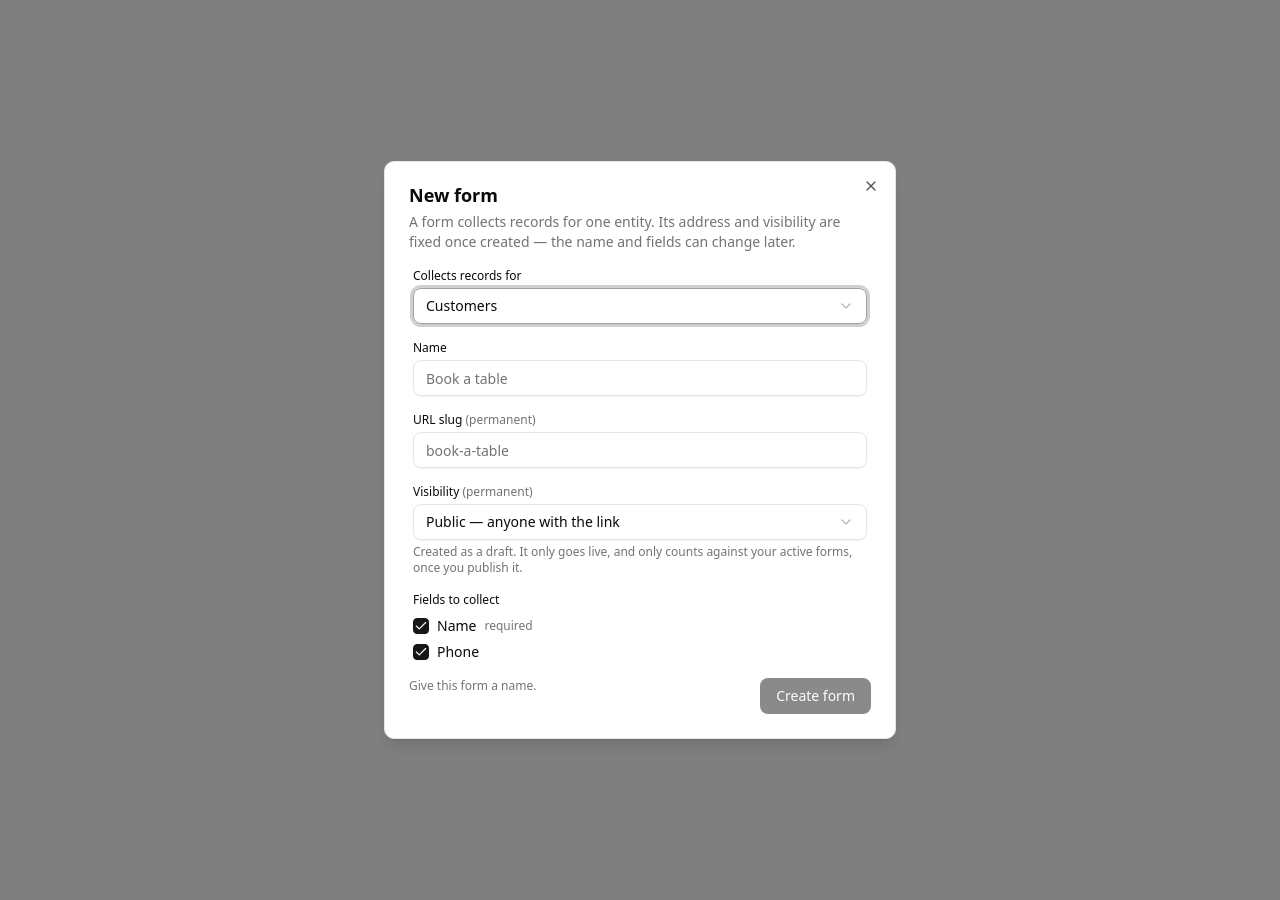
it: NewFormDialog › blocks a form that leaves out a field the entity requires
Type "Partial" into the field labelled "Name". click: {"x": 640, "y": 378}
box: [413,360,867,396]
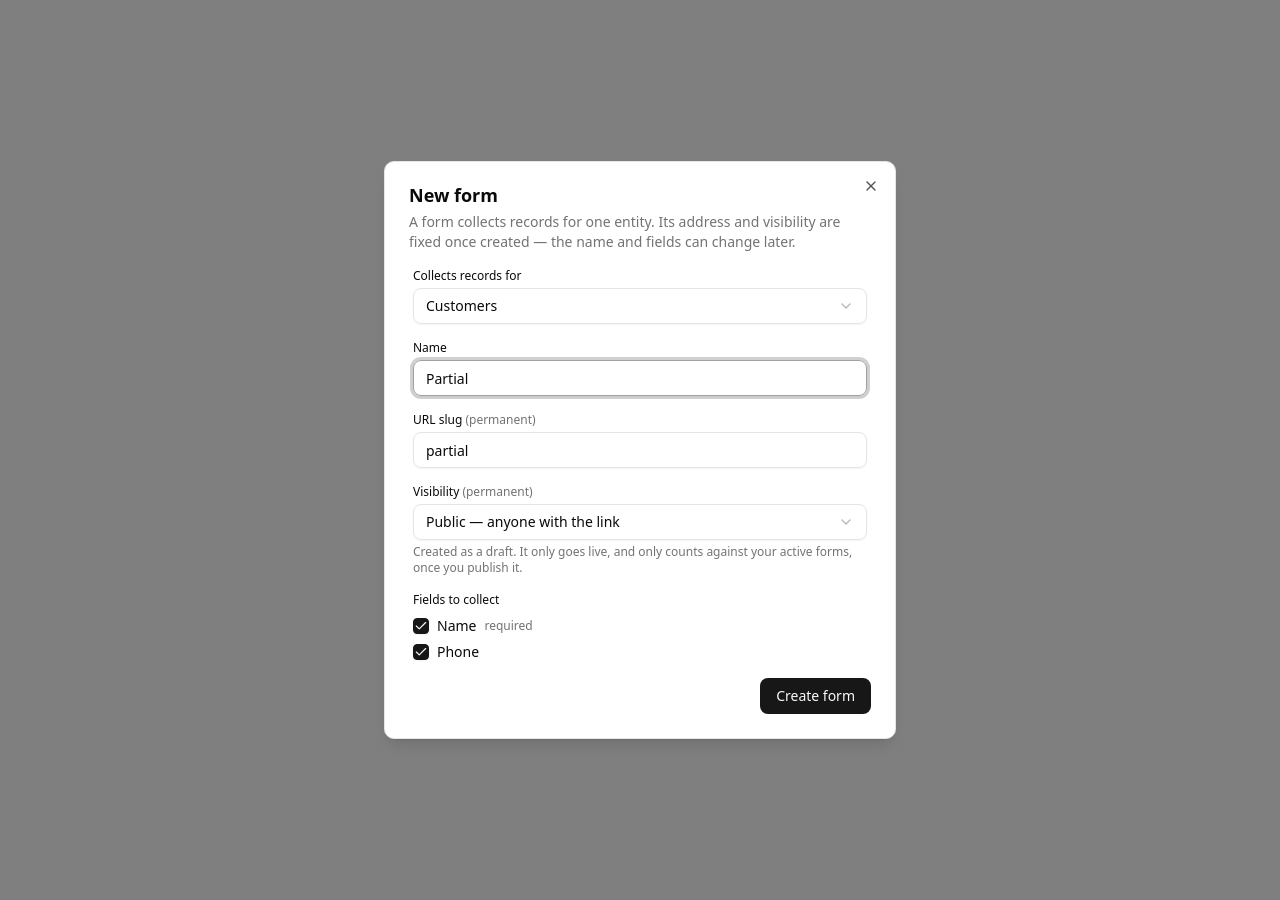
Click the checkbox named "Name". click: {"x": 421, "y": 626}
box: [413,618,429,634]
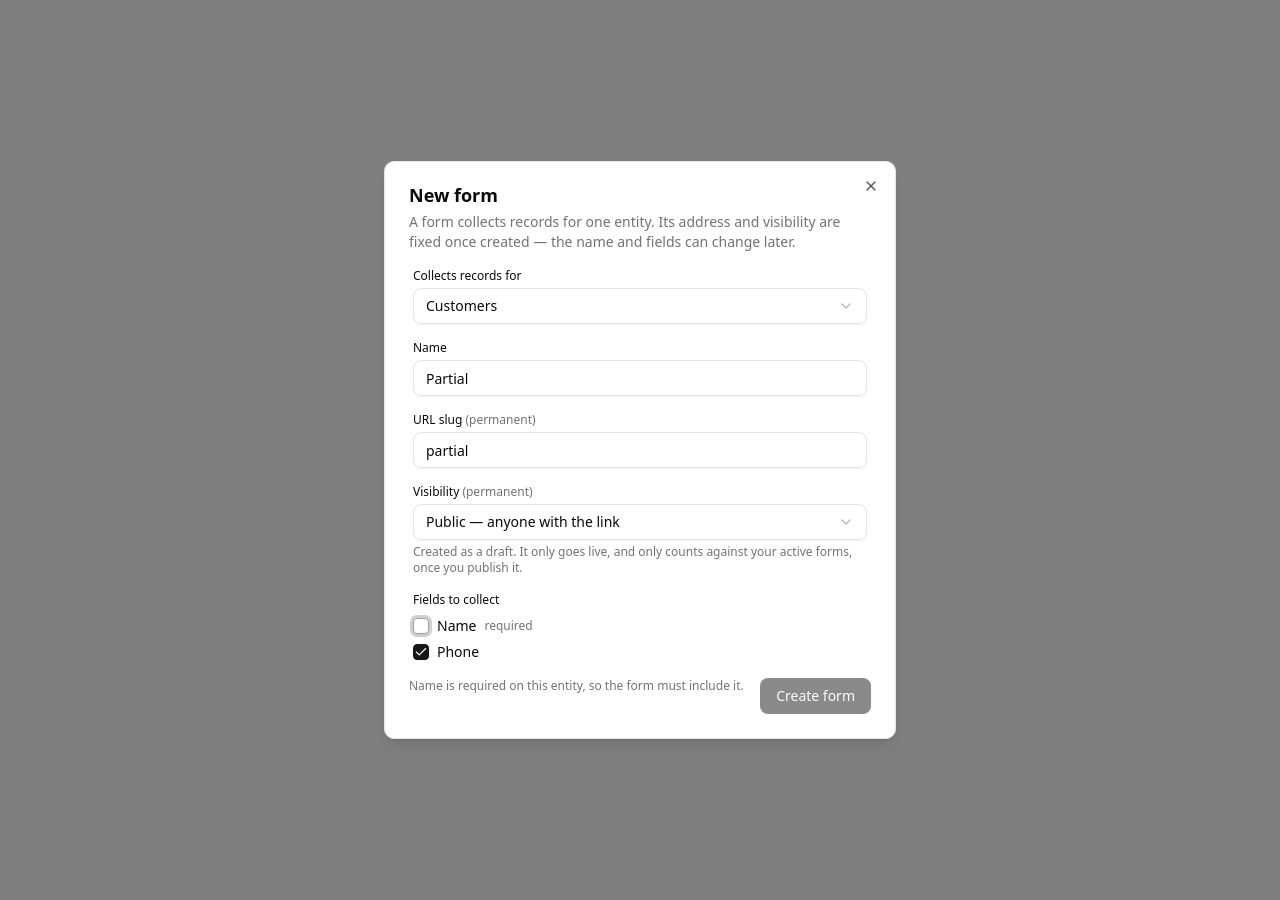
Expected: the text "is required on this entity" is shown, [409,677,744,694]
Expected: the button "Create form" is disabled, [760,678,871,714]
